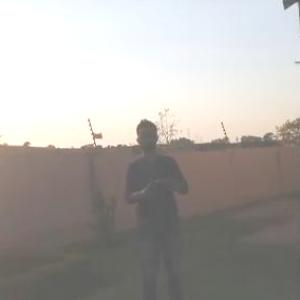follow: (117, 115, 202, 299)
